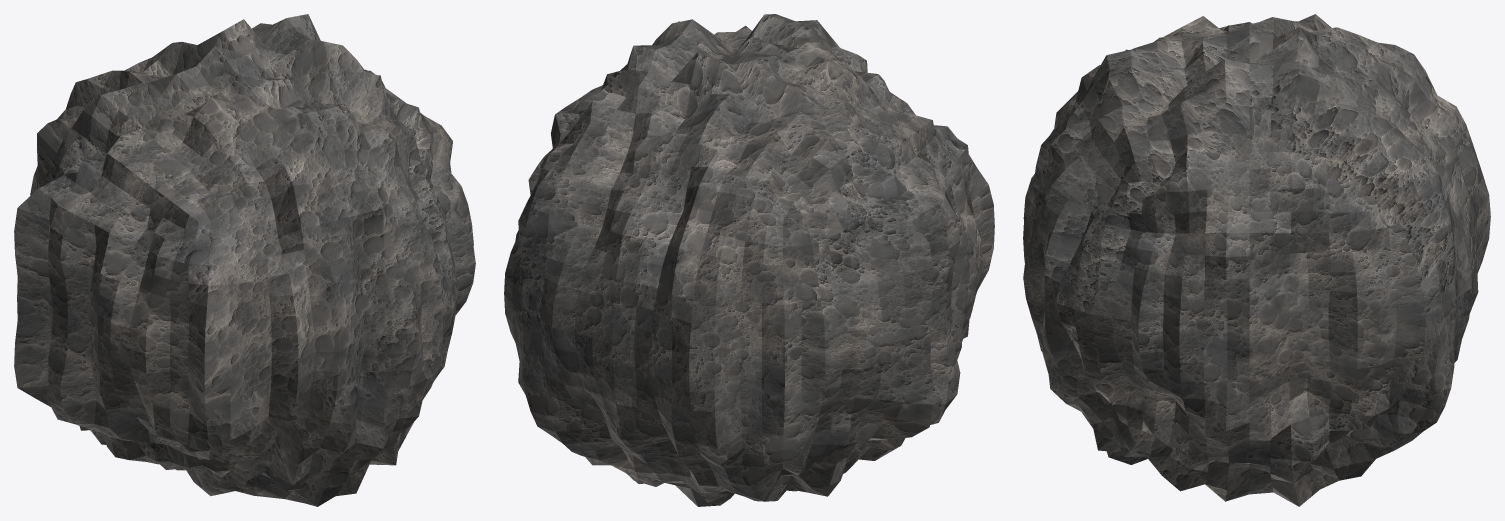
The model's file is asteroid74.obj.
3 renders of one model, left to right at view 1: azimuth 30°, elevation 25°; view 2: azimuth 150°, elevation 25°; view 3: azimuth 270°, elevation 25°, orthographic.
Visible parts, largest first — view 1: Cube_Cube.002; view 2: Cube_Cube.002; view 3: Cube_Cube.002.
Boxes of the visible parts, <box> form: Cube_Cube.002: <box>14,14,475,506</box>; Cube_Cube.002: <box>504,14,994,506</box>; Cube_Cube.002: <box>1023,14,1490,506</box>.
Size of the model in its own units: 1.76 by 1.86 by 1.74.
